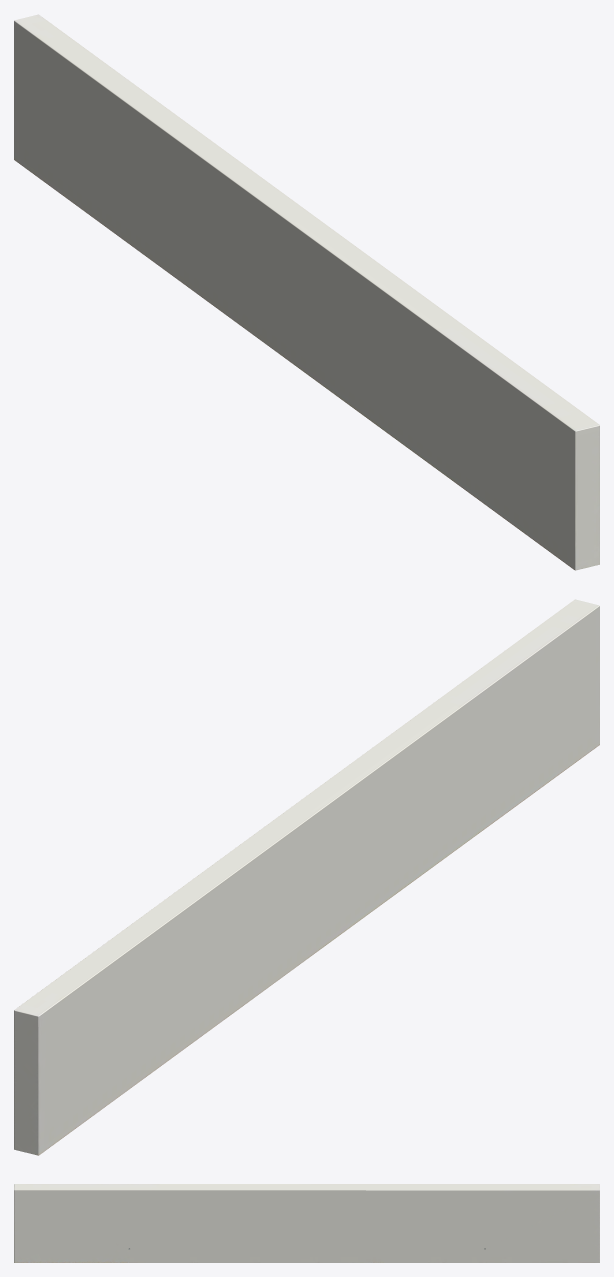
3 renders of one model, top to bottom at view 1: azimuth 30°, elevation 25°; view 2: azimuth 150°, elevation 25°; view 3: azimuth 270°, elevation 25°, orthographic. The views are drawn at different scales.
Parts seen in each view (by area): view 1: 50282182-LACK001; view 2: 50282182-LACK001; view 3: 50282182-LACK001.
Part boxes in pixels (x1,y1,x2,y2): 50282182-LACK001: (14,14,599,570); 50282182-LACK001: (14,599,599,1155); 50282182-LACK001: (14,1184,599,1262).
Bounding box in the file's own units: 0.0489 × 0.26 × 1.9.
Materials: 1 (1 with a texture image).
